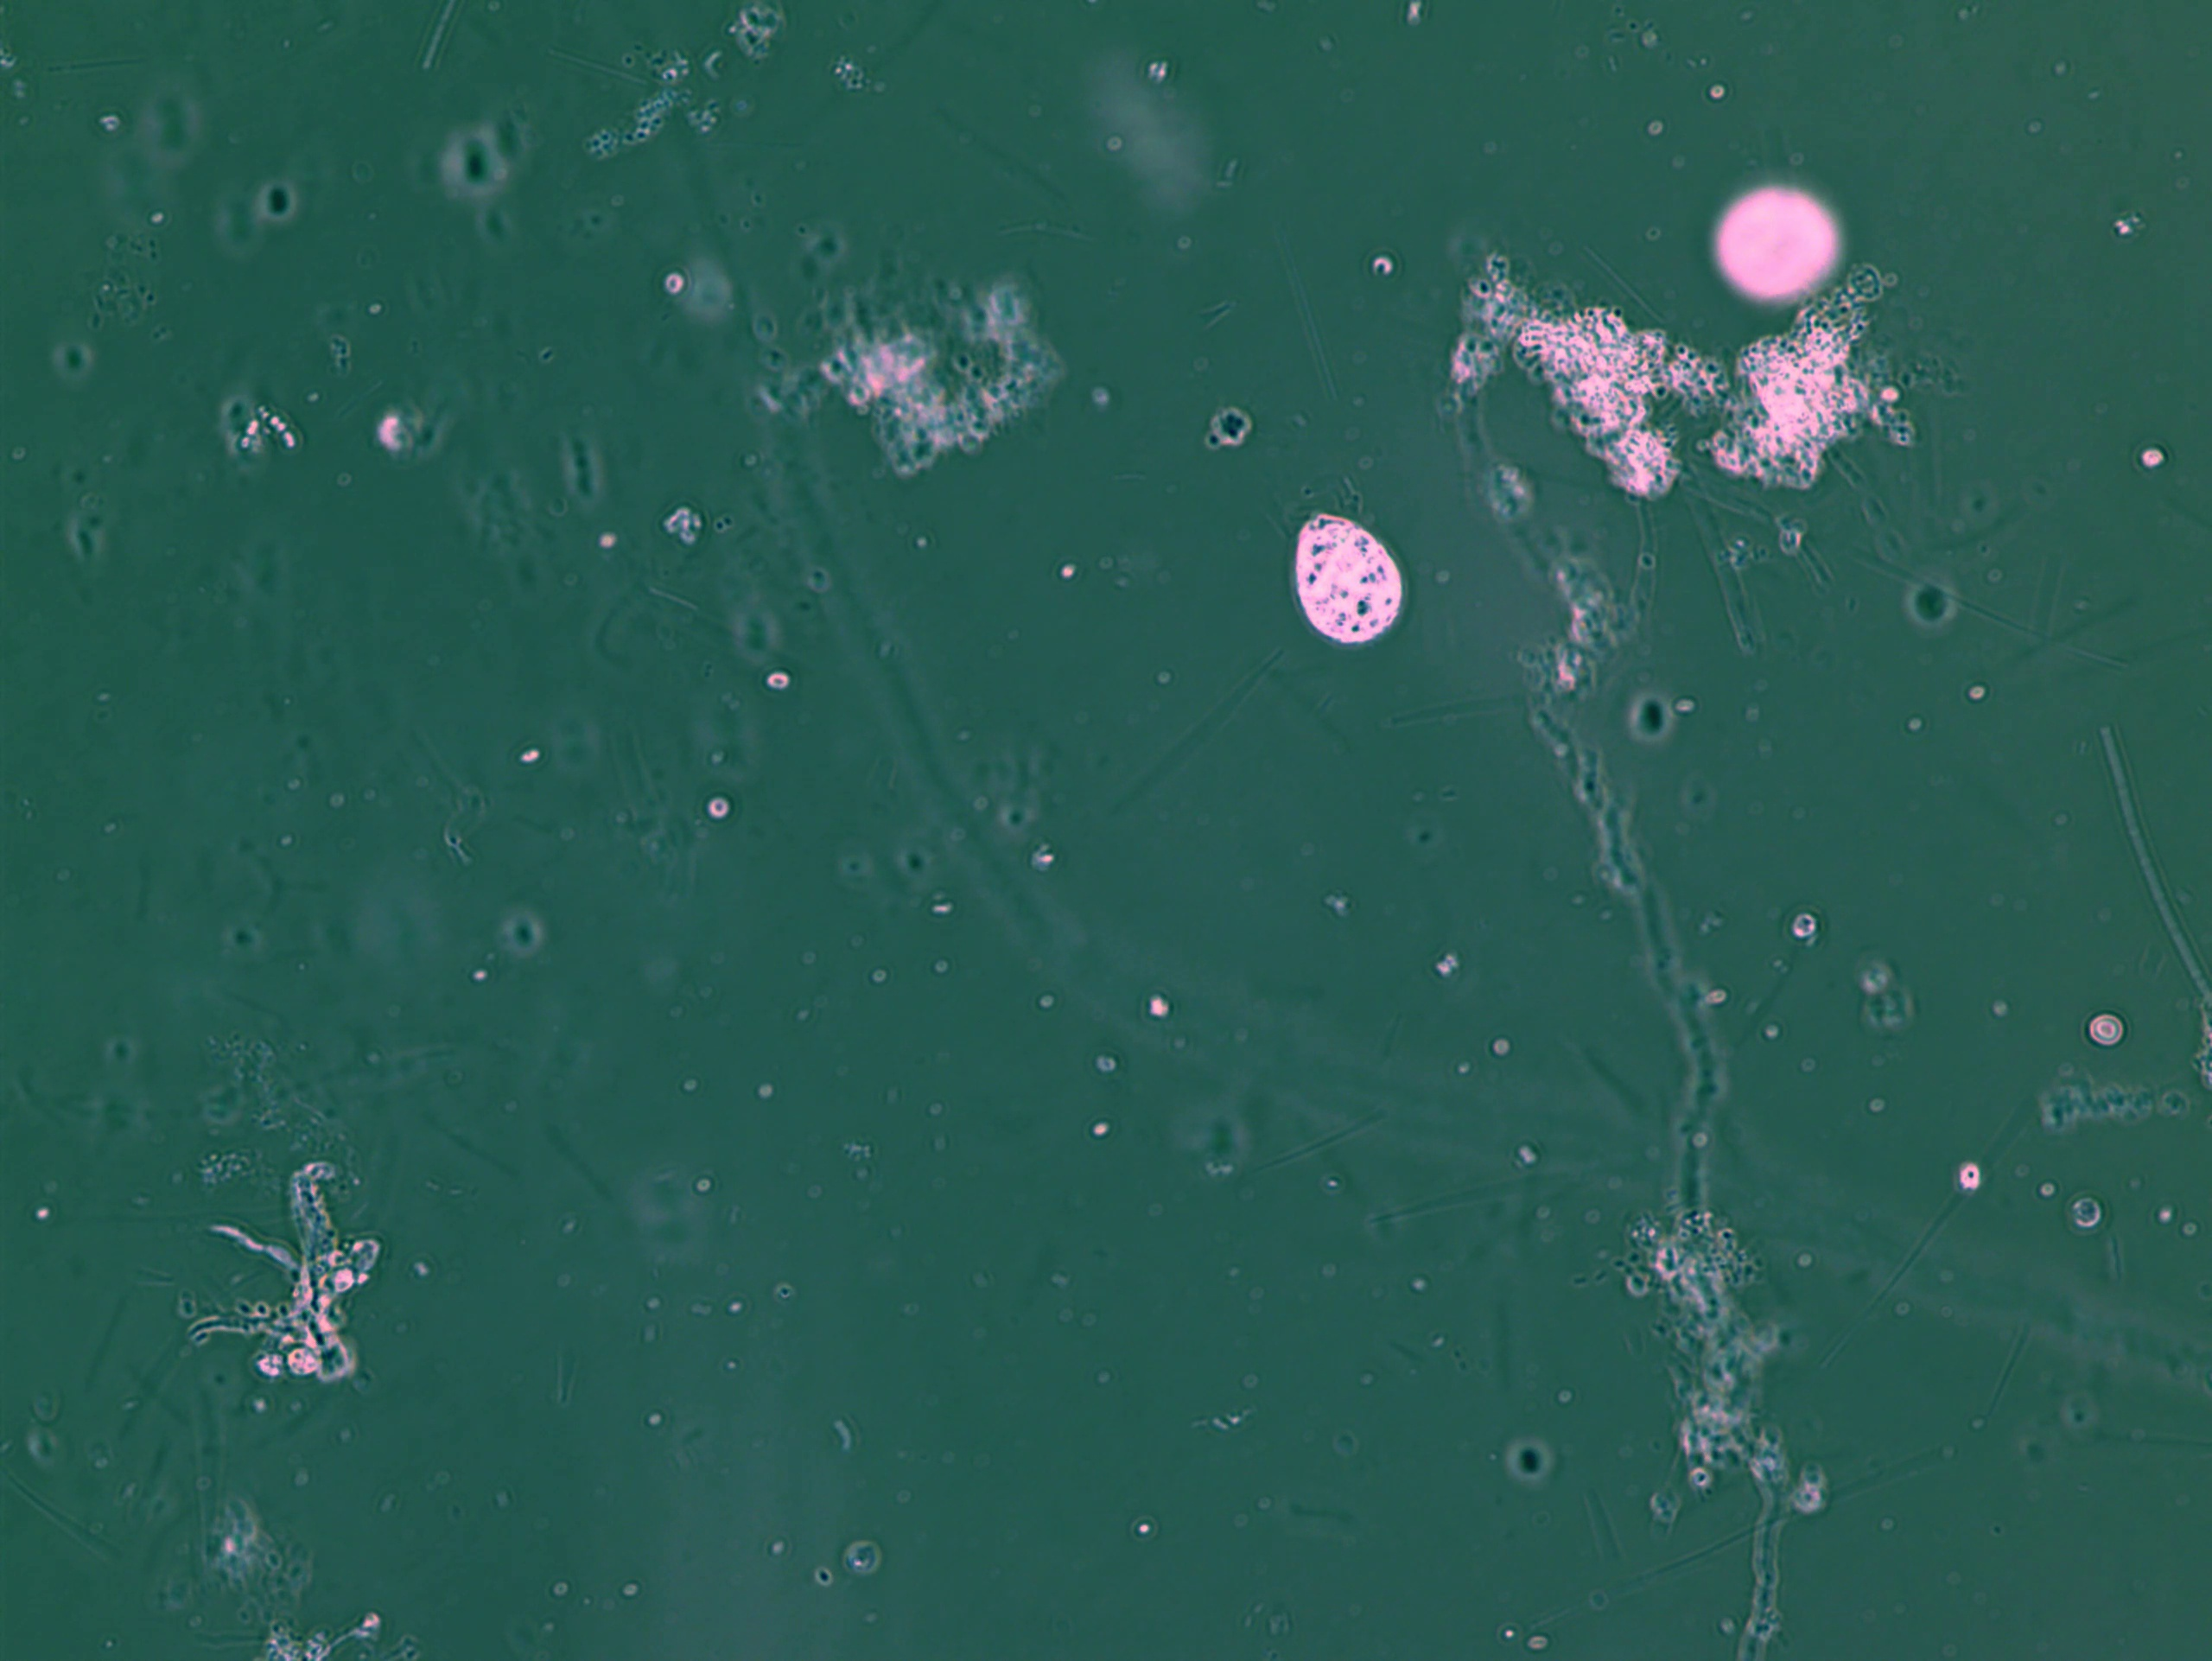depth:0: (1254, 489, 1434, 665)
